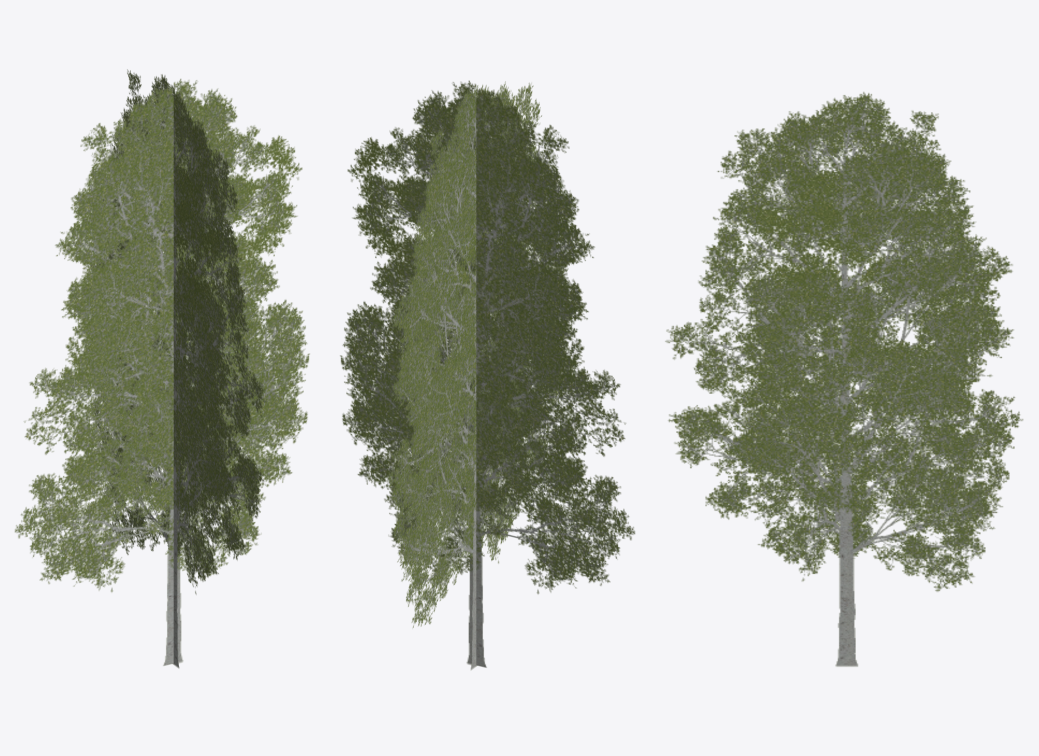
File: PopulusTremuloides.glb
3 renders of one model, left to right at view 1: azimuth 30°, elevation 25°; view 2: azimuth 150°, elevation 25°; view 3: azimuth 270°, elevation 25°, orthographic.
Visible parts, largest first — view 1: mesh__mat_billboard_4; view 2: mesh__mat_billboard_4; view 3: mesh__mat_billboard_4.
Boxes of the visible parts, left/top/right/bottom form: mesh__mat_billboard_4: left=14, top=69, right=309, bottom=668; mesh__mat_billboard_4: left=340, top=80, right=635, bottom=669; mesh__mat_billboard_4: left=665, top=92, right=1023, bottom=666.
Size of the model in its own units: 9.79 by 18.74 by 10.45.
Materials: 1 (1 with a texture image).
